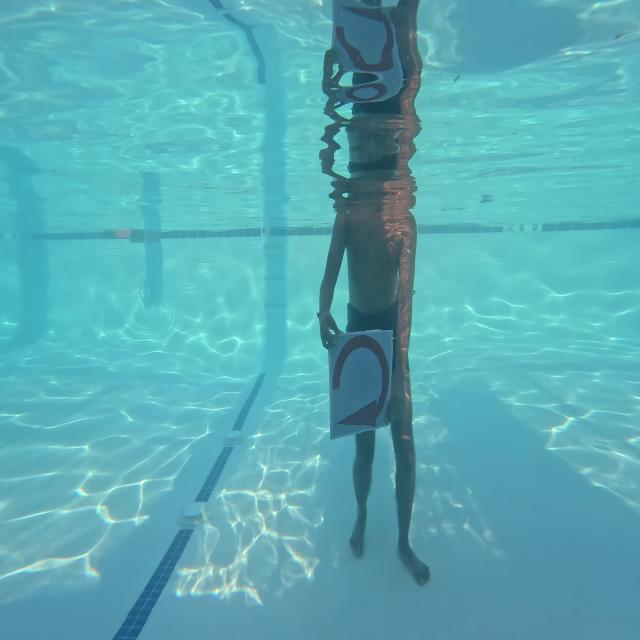red_side: (319, 310, 407, 445)
